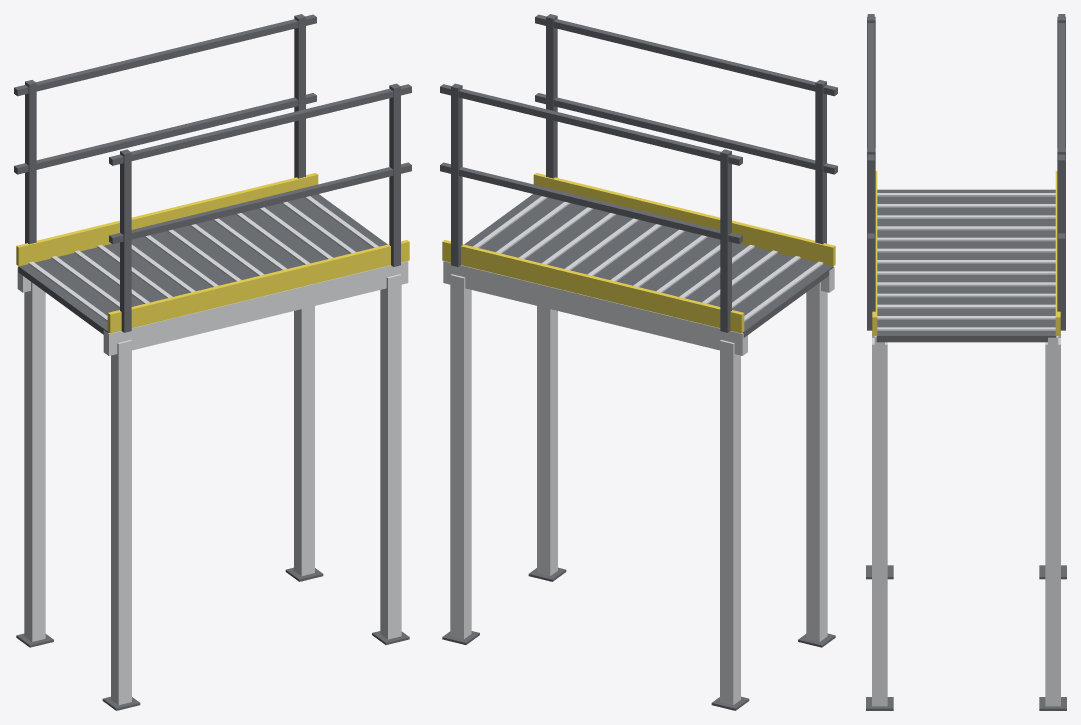
The model's file is mezzanine_walkway.glb.
The picture shows the model from 3 angles, left to right: view 1: azimuth 30°, elevation 25°; view 2: azimuth 150°, elevation 25°; view 3: azimuth 270°, elevation 25°; orthographic projection.
Visible parts, largest first — view 1: vertical-farm-and-hydroponics-tower-mezzanine-walkway; view 2: vertical-farm-and-hydroponics-tower-mezzanine-walkway; view 3: vertical-farm-and-hydroponics-tower-mezzanine-walkway.
Boxes of the visible parts, x1,y1,x2,y2 form: vertical-farm-and-hydroponics-tower-mezzanine-walkway: (14, 14, 411, 710); vertical-farm-and-hydroponics-tower-mezzanine-walkway: (440, 14, 837, 710); vertical-farm-and-hydroponics-tower-mezzanine-walkway: (866, 14, 1066, 710).
Bounding box in the file's own units: 2 × 3.54 × 1.16.
